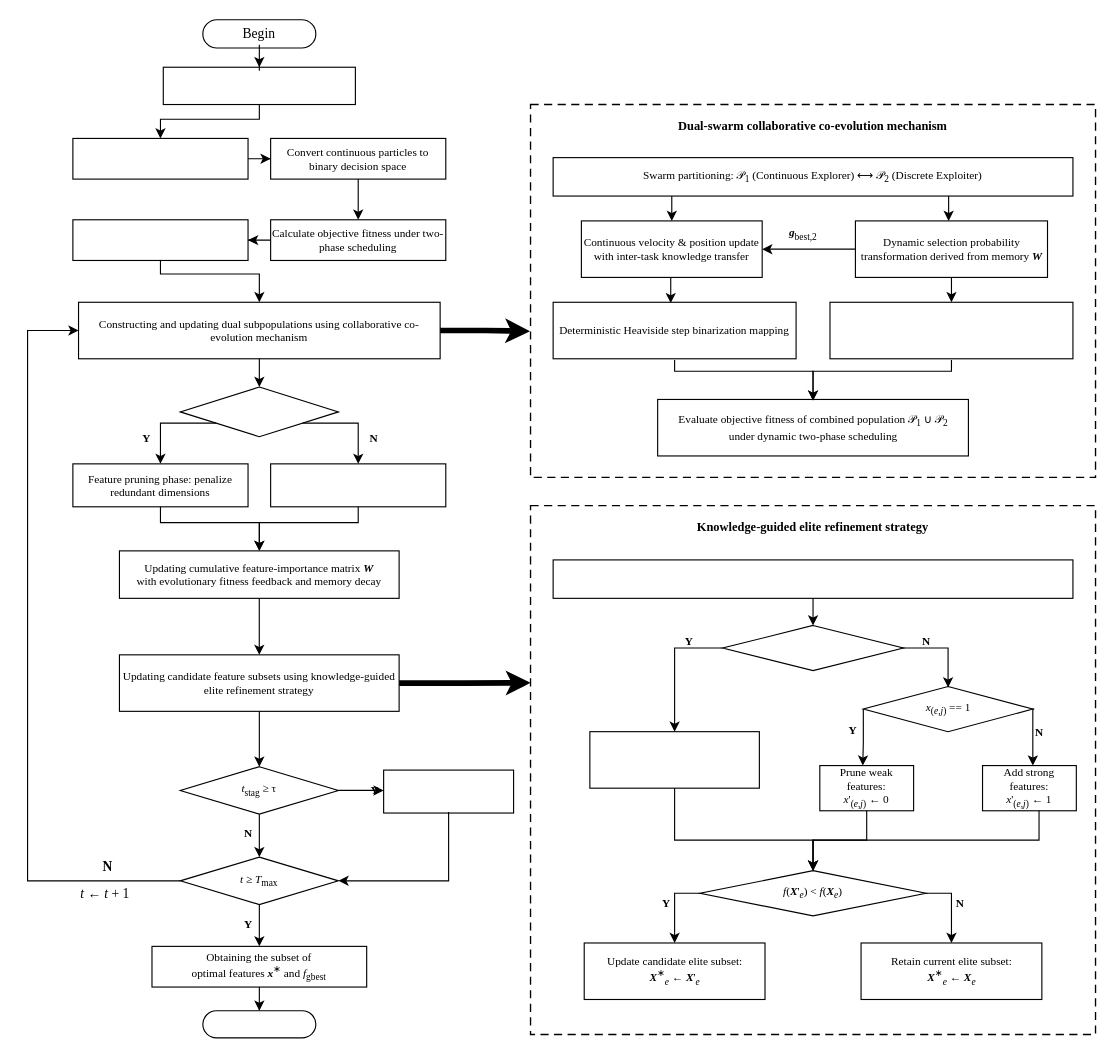
Some shapes in this 1116 by 1058 pixel diagram are drawn without their labels. The centre of each missing label's shape, as x and y in pixels:
"Accuracy tuning phase: refine classification accuracy" belongs at point (358, 485).
"Adaptive stagnation recovery: re-initialize lower-half particles" belongs at point (448, 791).
"Data inputs required for the knowledge-guided elite refinement strategy" belongs at point (812, 578).
"Discrete Bernoulli feature sampling and bit mutation" belongs at point (951, 330).
"End" belongs at point (259, 1024).
"Initialize candidate solutions based on prior knowledge" belongs at point (160, 158).
"Obtain initial personal and global best solutions" belongs at point (160, 239).
"r < p rand" belongs at point (812, 647).
"Set related parameters" belongs at point (258, 85).
"t ≤ τ T max" belongs at point (258, 411).
"Update candidate features via ergodic random bit perturbation" belongs at point (674, 759).
